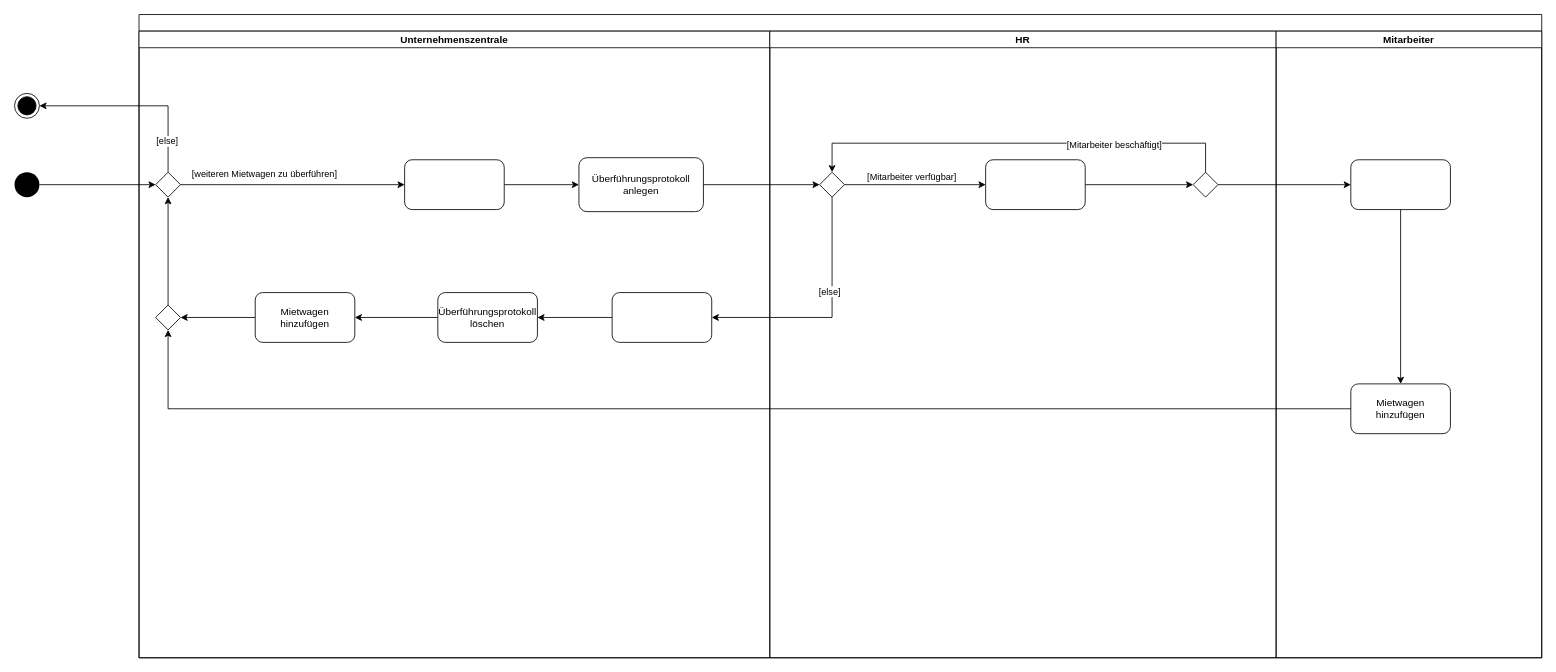
The diagram is 1556 pixels wide and 672 high, and some of its shapes have lost their labels. The centre of each missing label's shape, as x and y in pixels:
"kostenlose Fahrt erstellen" goes at (x=661, y=317).
"Mietwagen entfernen" goes at (x=454, y=184).
"Mitarbeiter heraussuchen" goes at (x=1035, y=184).
"Überführungsprotokoll abarbeiten" goes at (x=1400, y=184).
